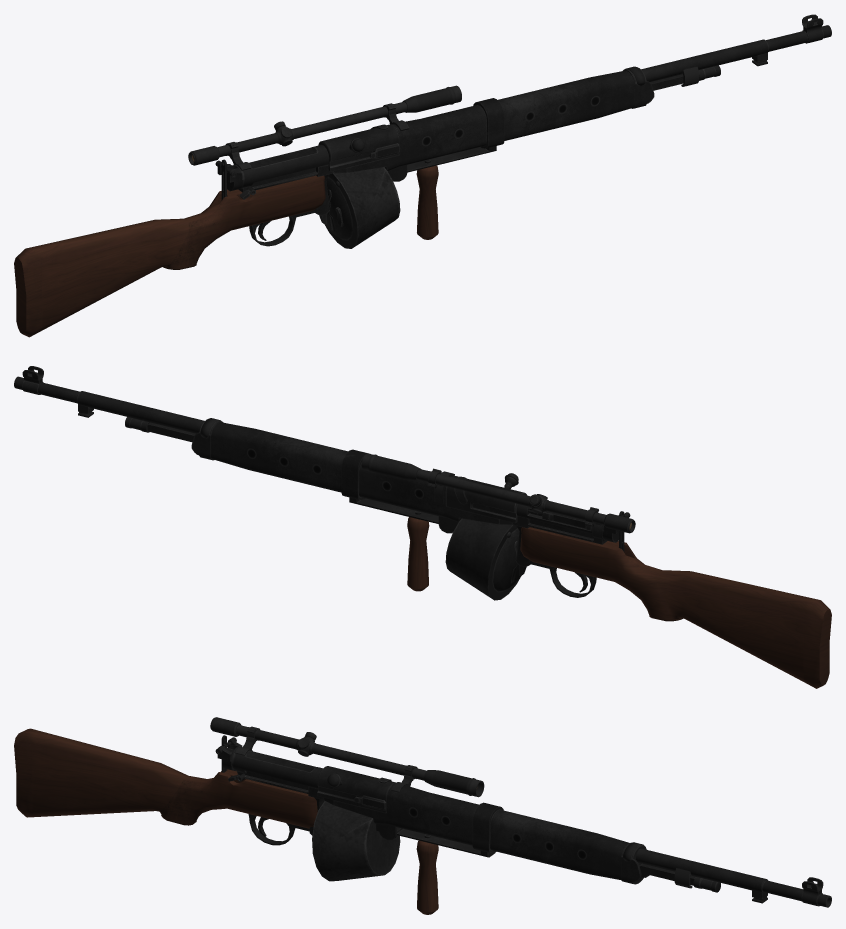
Rendered from rifle_2148cca2.glb.
3 views of the same model, one above another, from view 1: azimuth 30°, elevation 25°; view 2: azimuth 150°, elevation 25°; view 3: azimuth 330°, elevation 25° (orthographic).
Parts seen in each view (by area): view 1: FH_rifle; view 2: FH_rifle; view 3: FH_rifle.
Part boxes in pixels (x1=…): FH_rifle: x1=14, y1=14, x2=831, y2=337; FH_rifle: x1=14, y1=366, x2=831, y2=688; FH_rifle: x1=14, y1=717, x2=831, y2=914.
Bounding box in the file's own units: 9.76 × 1.6 × 0.9266.
Materials: 2 (2 with a texture image).
